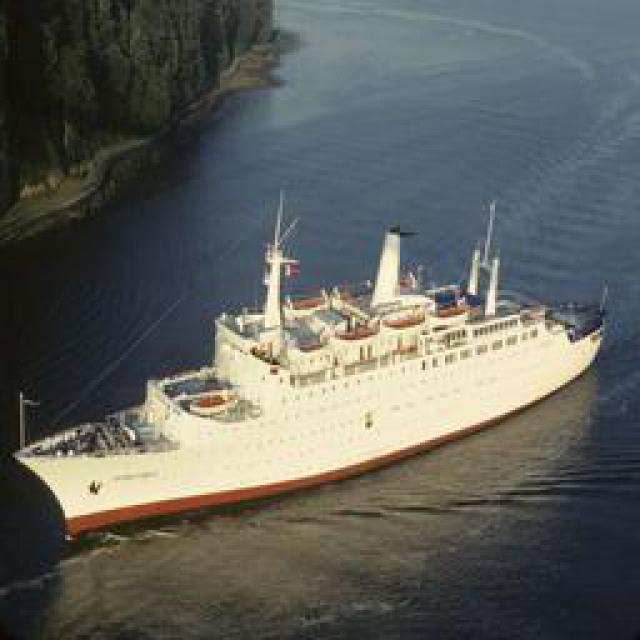Ship: (19, 206, 609, 544)
